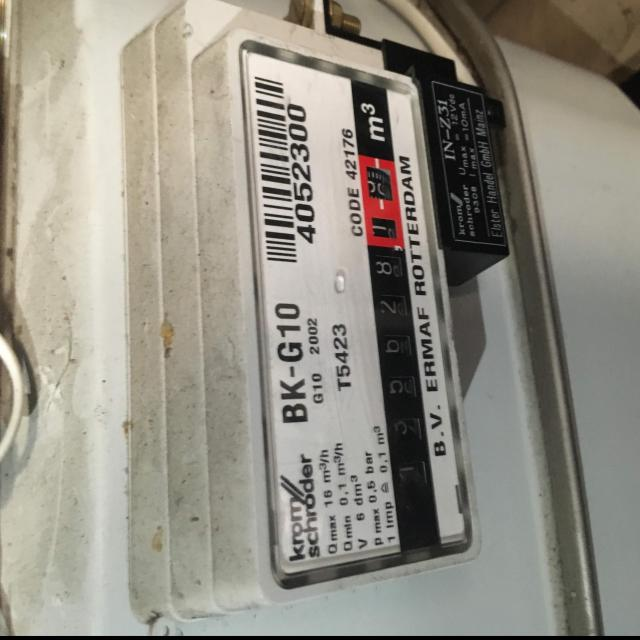gaz_meter: (241, 43, 476, 591)
indication: (360, 155, 433, 495)
